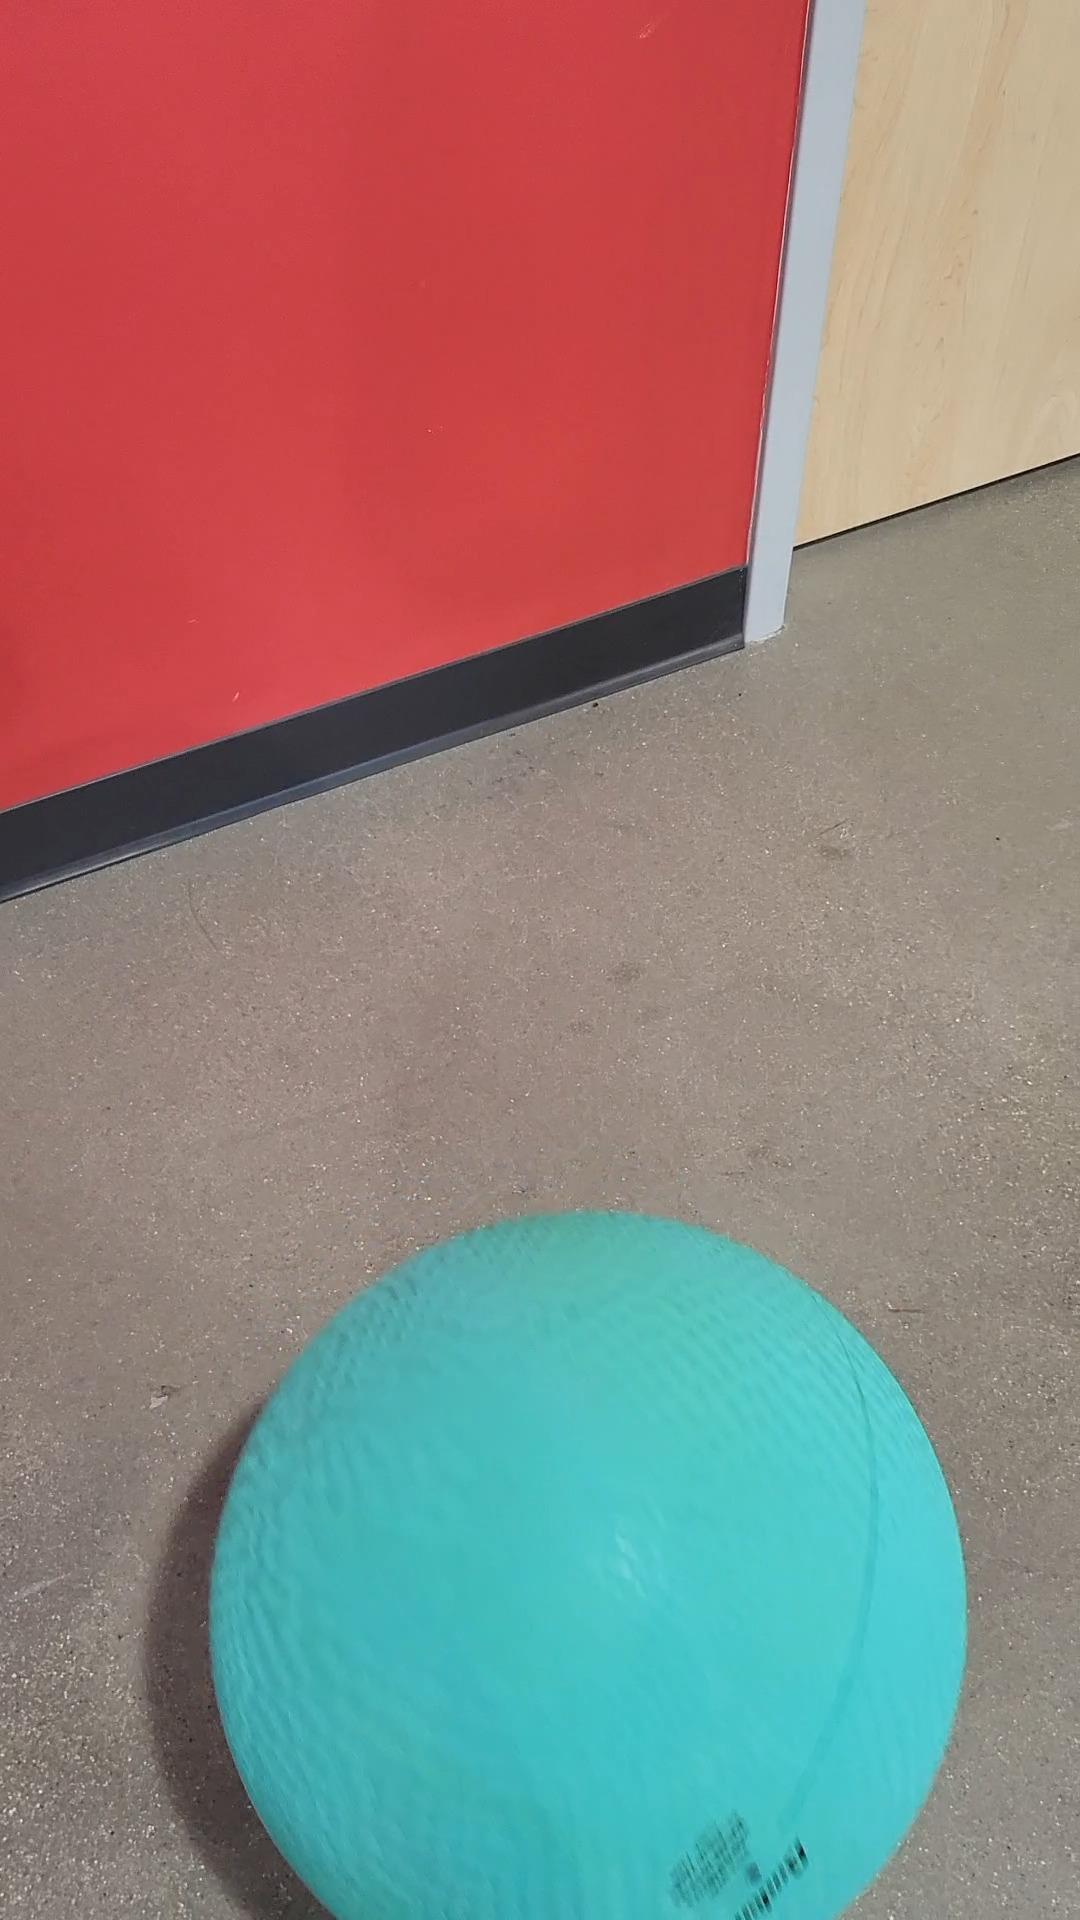algae: (206, 1216, 967, 1920)
